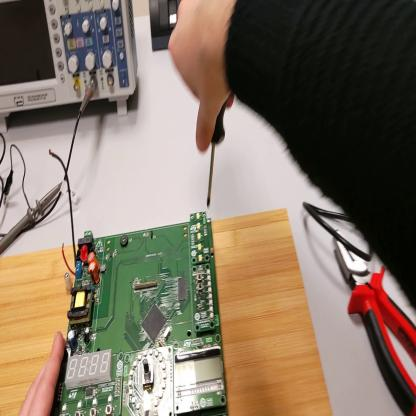hand: (170, 3, 239, 153), (20, 331, 66, 413)
low voltage board: (50, 148, 231, 416)
oscilloscope: (2, 2, 141, 132)
oscilloscope probe tip: (2, 181, 63, 253)
pliers: (337, 234, 416, 416)
screwdriver-: (209, 106, 226, 213)
working area: (2, 207, 336, 416)
